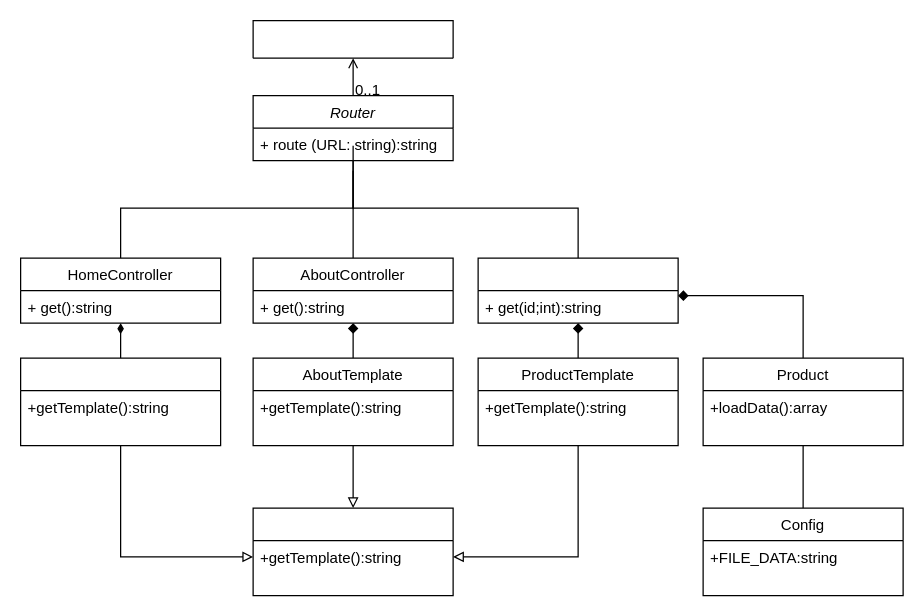
Some shapes in this 924 by 616 pixel diagram are drawn without their labels. Here are the shapes that lost their labels. From the top down, the box of each, then its label:
(252, 19, 453, 58): index
(477, 257, 678, 323): ProductController
(19, 357, 221, 446): HomeControler
(252, 507, 453, 596): BaseTemplate
